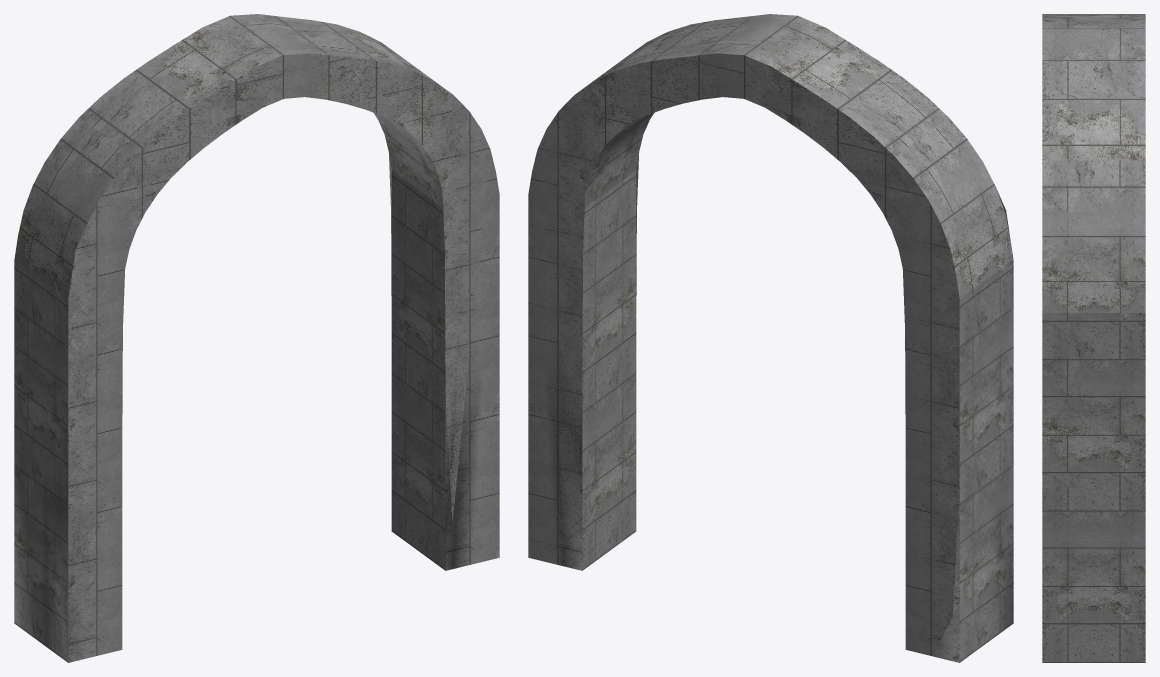
The model's file is Arc.FBX.
3 renders of one model, left to right at view 1: azimuth 30°, elevation 25°; view 2: azimuth 150°, elevation 25°; view 3: azimuth 270°, elevation 25°, orthographic. The views are drawn at different scales.
Visible parts, largest first — view 1: arc; view 2: arc; view 3: arc.
Part boxes in pixels (x1,y1,x2,y2): arc: (14, 14, 499, 662); arc: (528, 14, 1013, 662); arc: (1042, 14, 1145, 662).
Size of the model in its own units: 79.87 by 98.27 by 17.27.
Materials: 1 (1 with a texture image).
